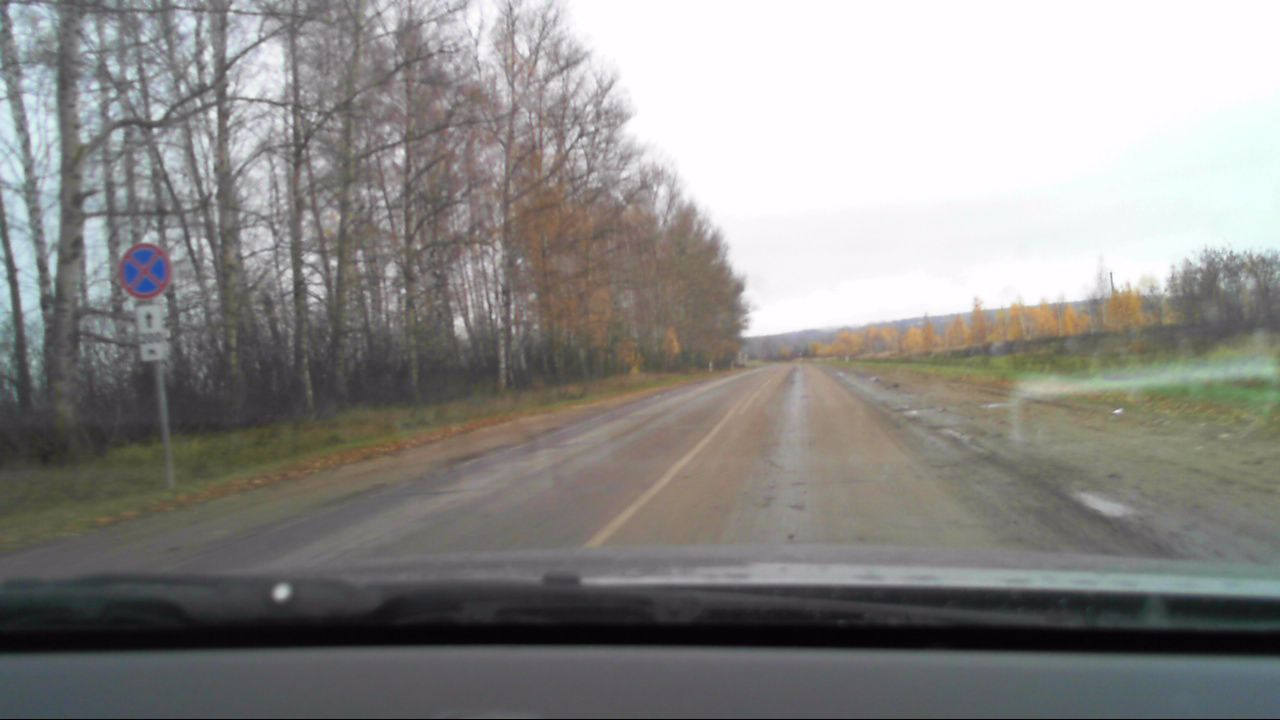No Parking: (116, 241, 171, 299)
